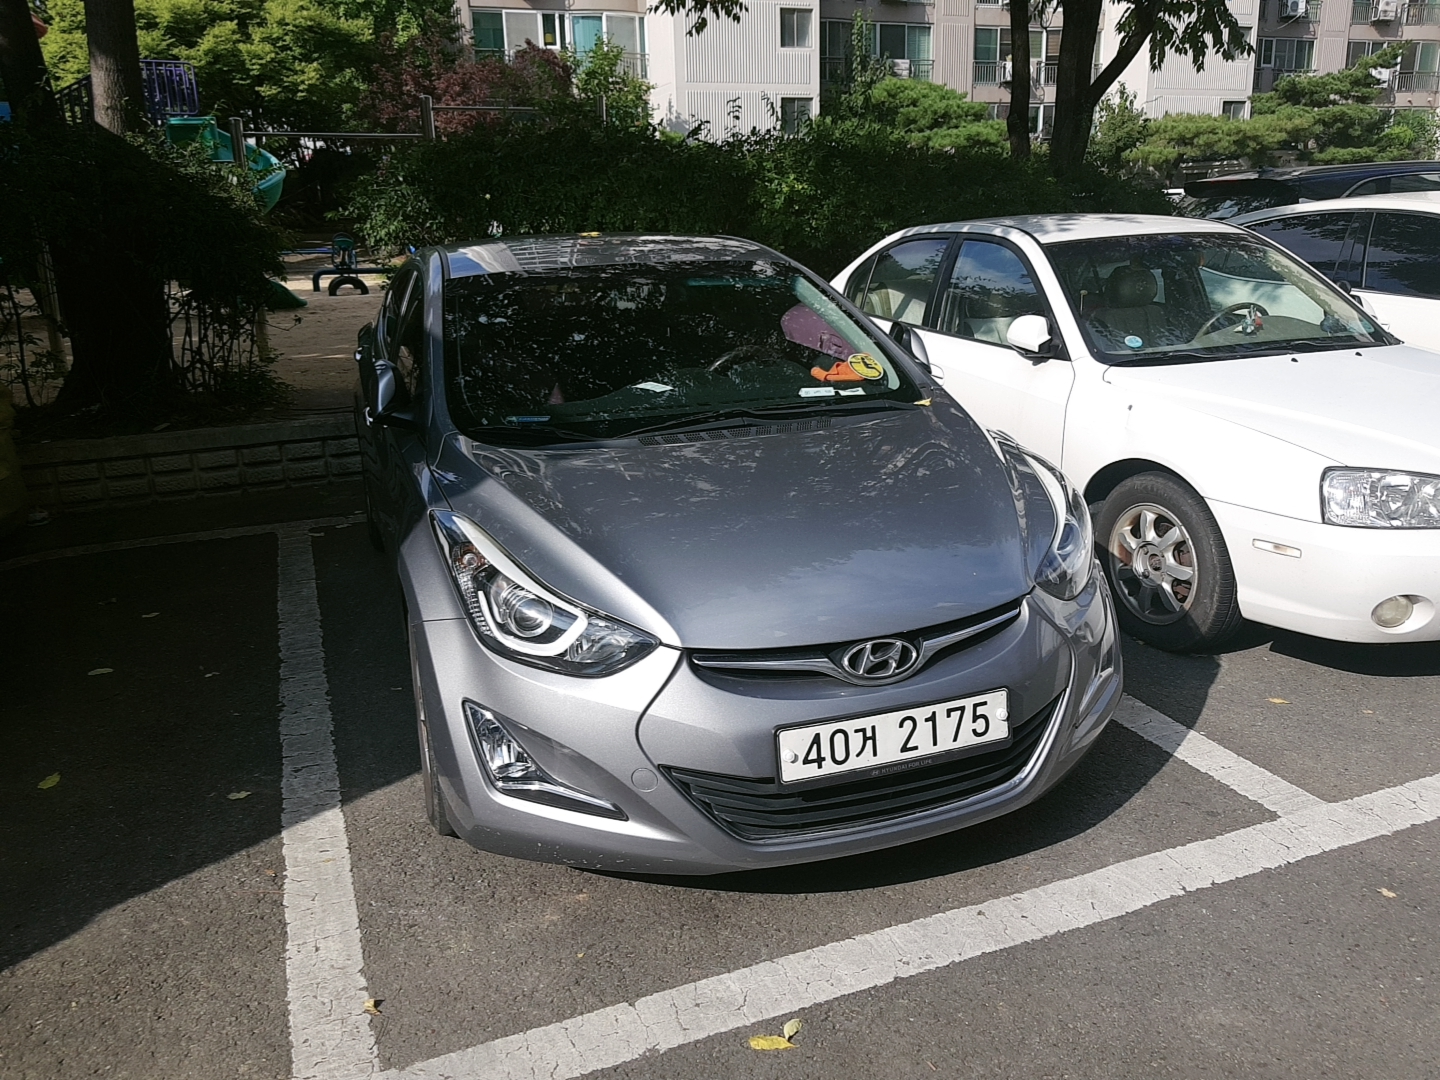apart_parking: (1123, 334, 1147, 349)
disabled_parking: (844, 347, 891, 382)
